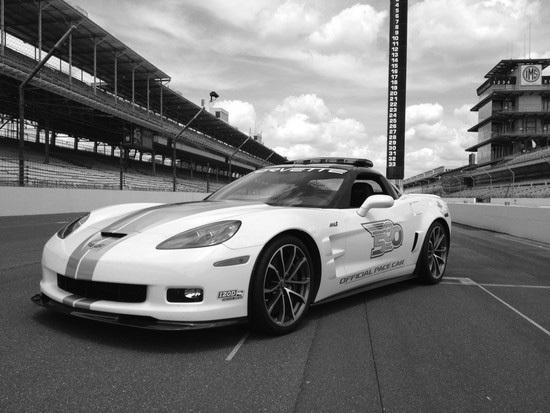car: (37, 159, 454, 332)
